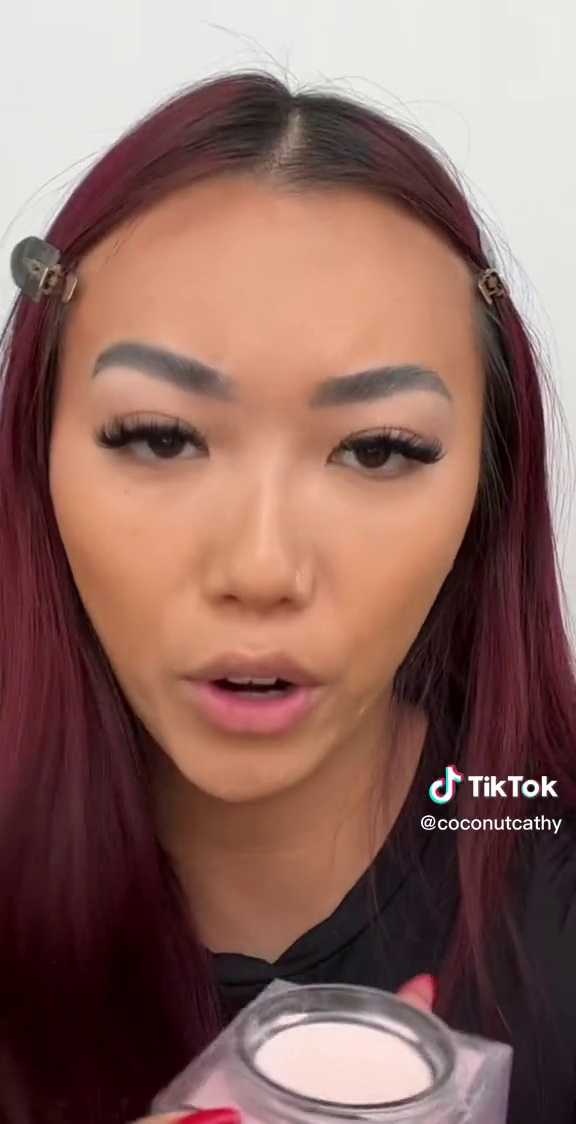train' :'yolo_data/train/images',: (135, 969, 523, 1123)
